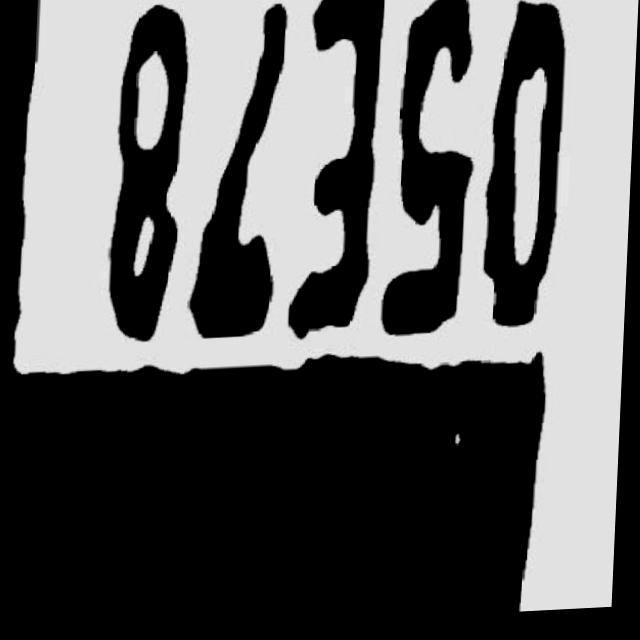5: (376, 0, 481, 349)
7: (187, 11, 298, 352)
8: (104, 1, 192, 347)
e: (283, 0, 386, 347)
o: (475, 0, 569, 346)
